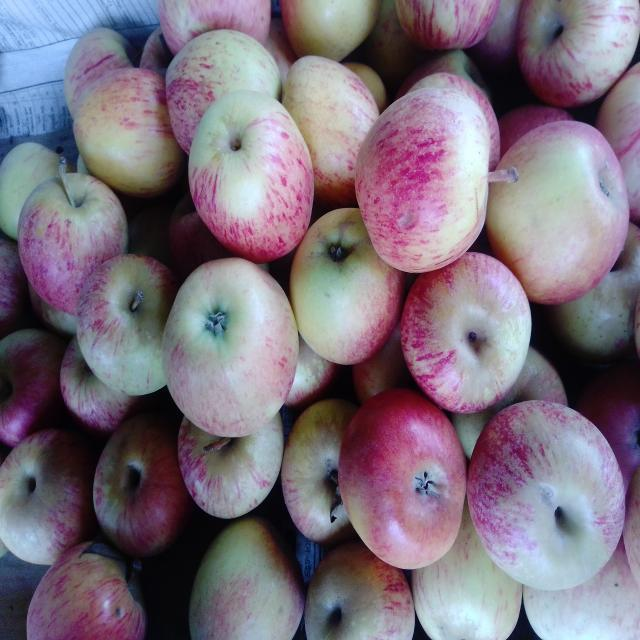Fresh Apple: (468, 400, 618, 587), (357, 79, 490, 278), (398, 257, 540, 418), (182, 103, 320, 267), (165, 268, 302, 428), (348, 403, 465, 580), (498, 121, 620, 286), (22, 168, 130, 332), (193, 528, 303, 640)
